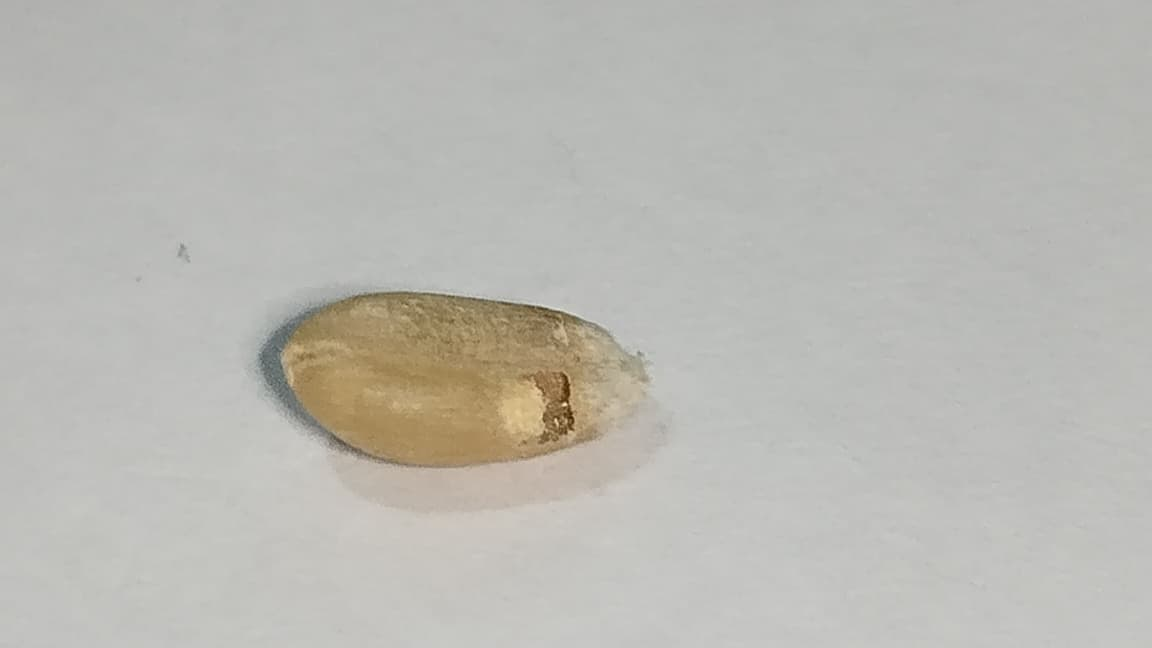damage: (281, 293, 645, 465)
insectdamage: (474, 354, 606, 460)
